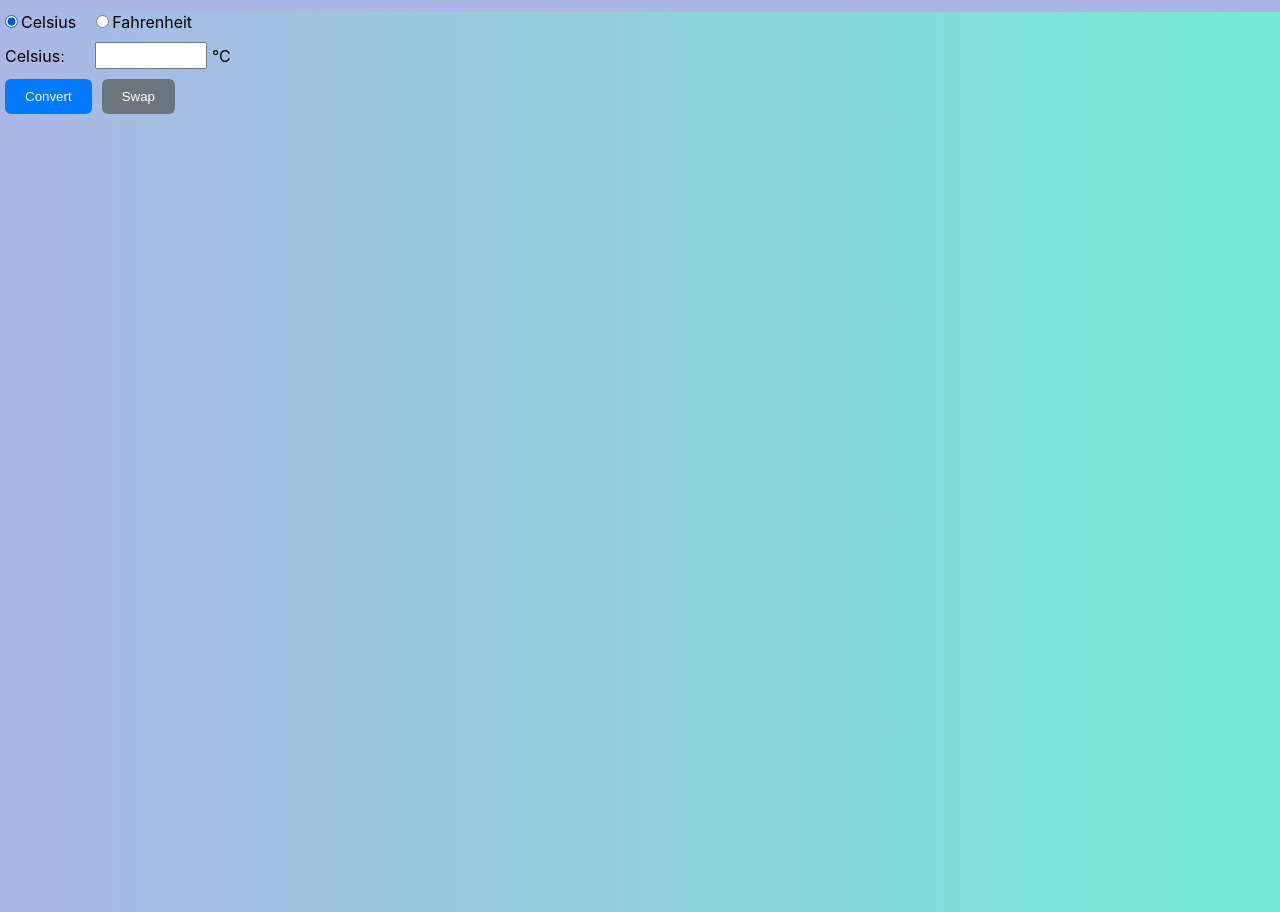
Temperature component › swap button toggles units
Click the button "Swap" at (138, 96), box 102,79 -> 175,114
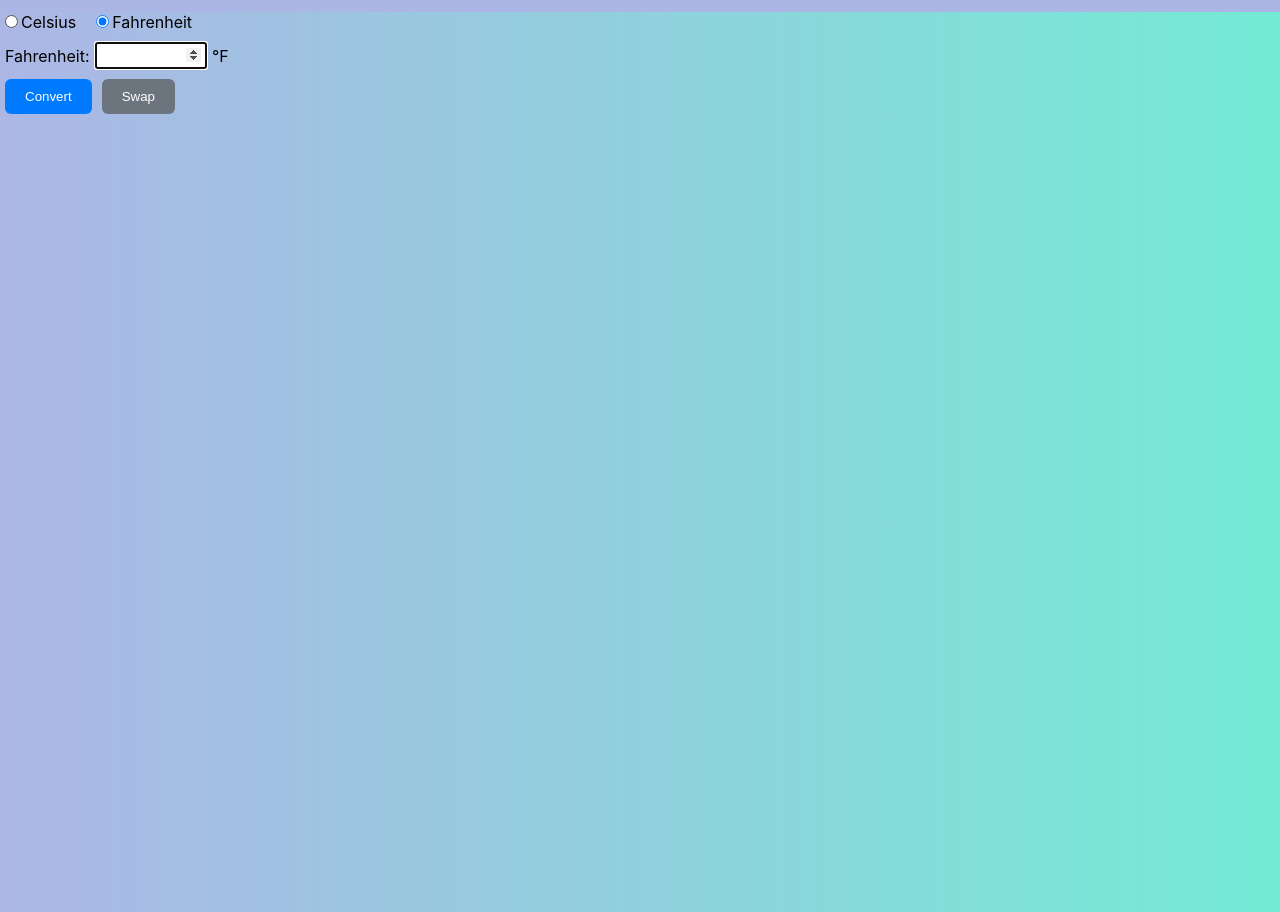
Check: the radio button labelled "Celsius" is not checked, box 5,15 -> 18,28
Check: the radio button labelled "Fahrenheit" is checked, box 96,15 -> 109,28
Click the button "Swap" at (138, 96), box 102,79 -> 175,114
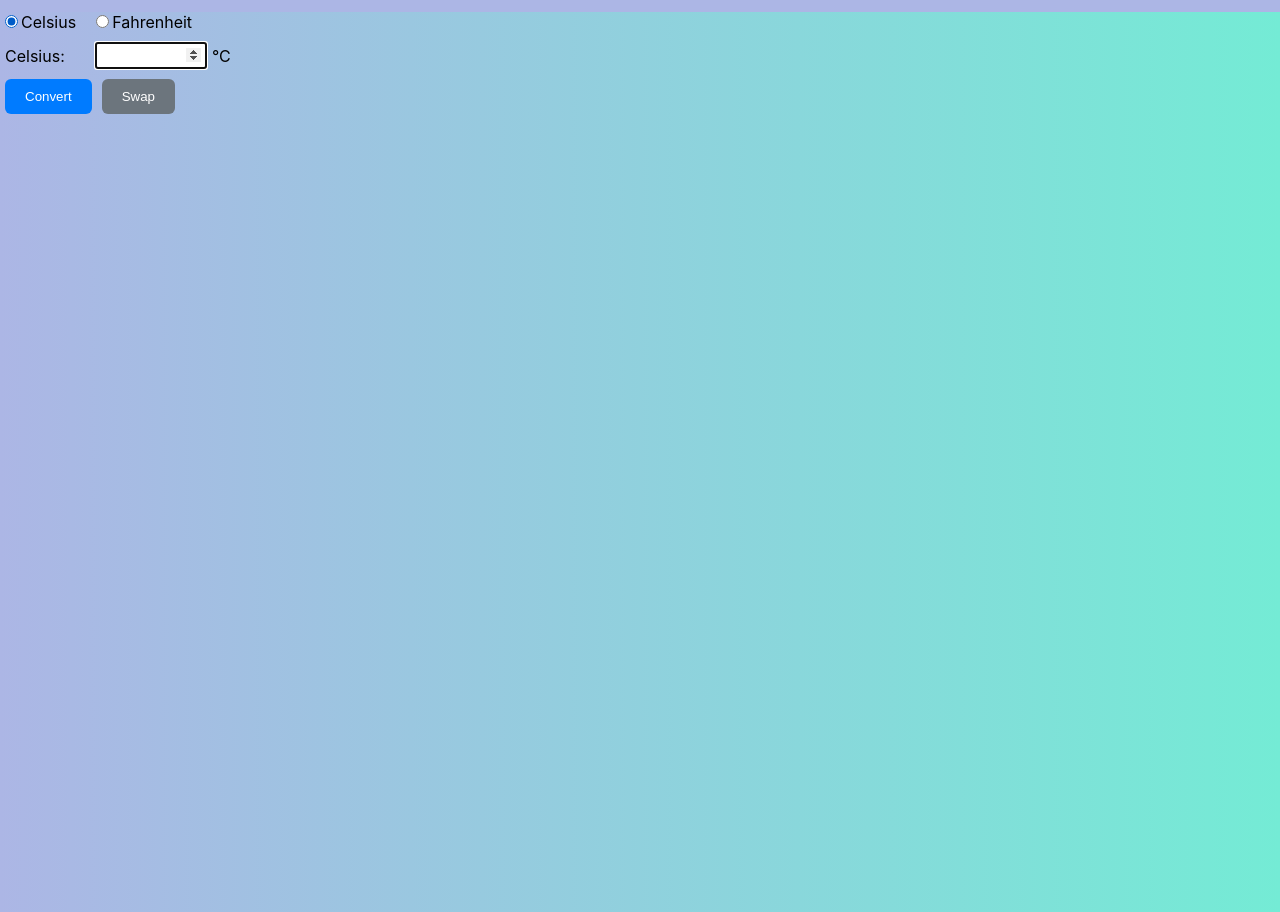
Check: the radio button labelled "Celsius" is checked, box 5,15 -> 18,28
Check: the radio button labelled "Fahrenheit" is not checked, box 96,15 -> 109,28
